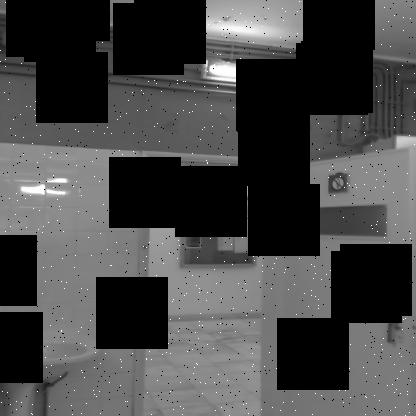Porte: (128, 147, 415, 416)
